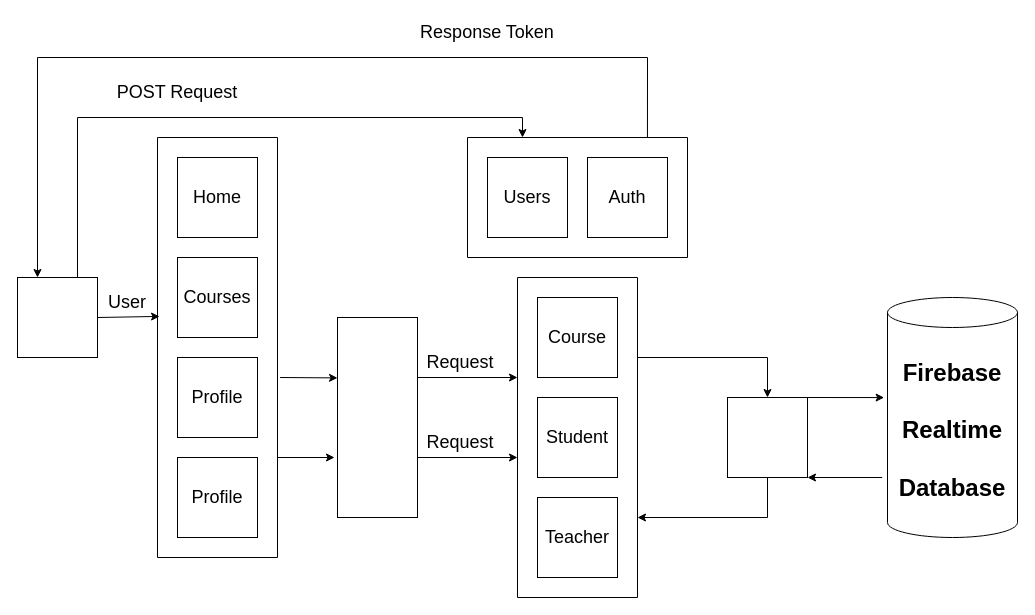
This 1035x615 diagram has some shape labels left out. The shapes that lost their labels are listed below. From the top down, each one's centre as x and y in pixels, then its label:
the point at 57,317: Login
the point at 377,417: API
the point at 767,437: Firebase
